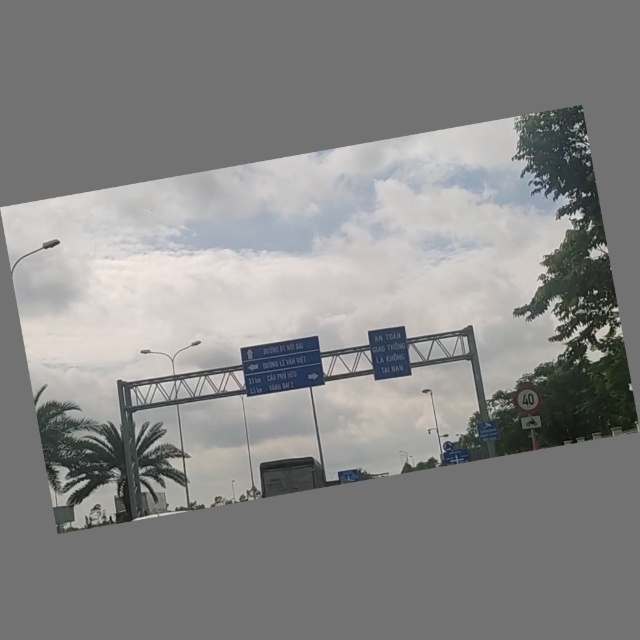P.127*40: (512, 386, 543, 417)
S.505a*Xe may: (517, 412, 546, 435)
